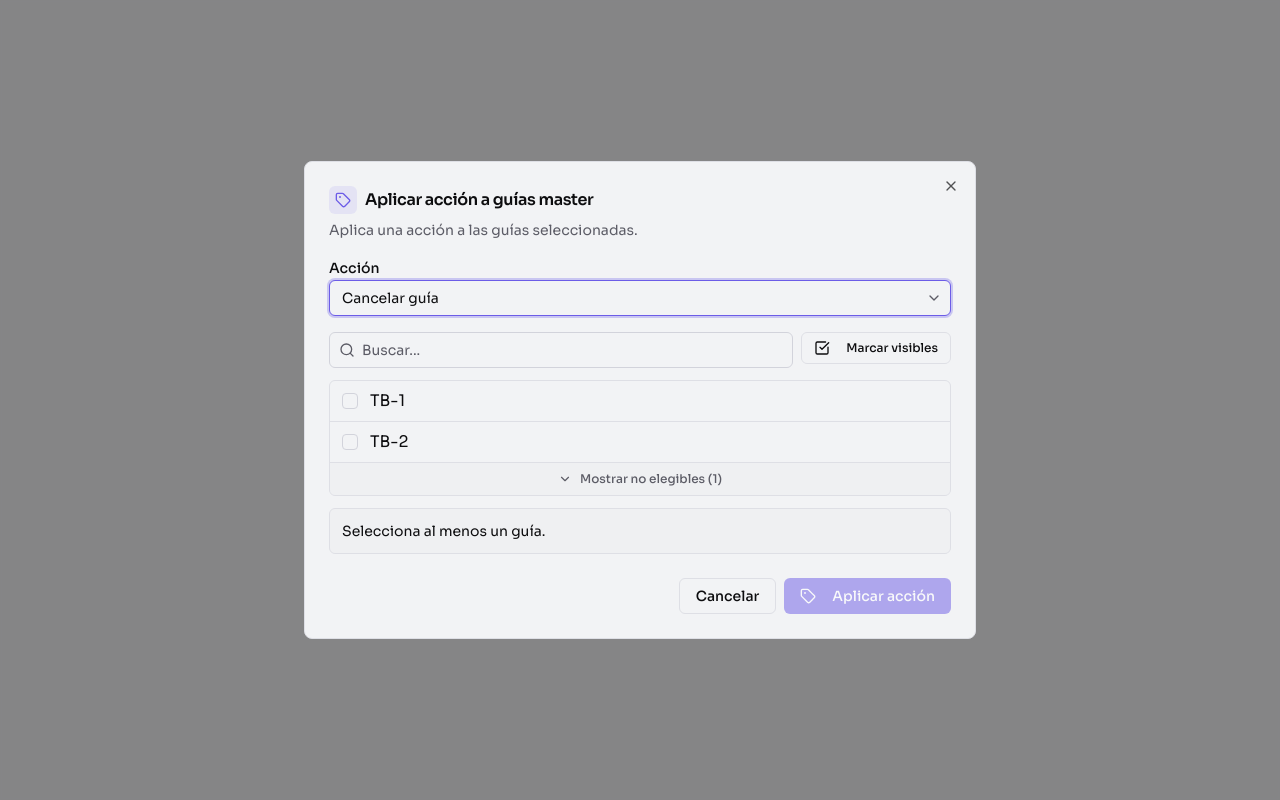
Test: AplicarEstadoMasivoDialog › al expandir, el no elegible aparece deshabilitado con su razón visible
What coordinates should you click on to do the following:
click the button "Mostrar no elegibles (1)"
I would click on:
 (640, 479)
Its box is [330,463,950,495].
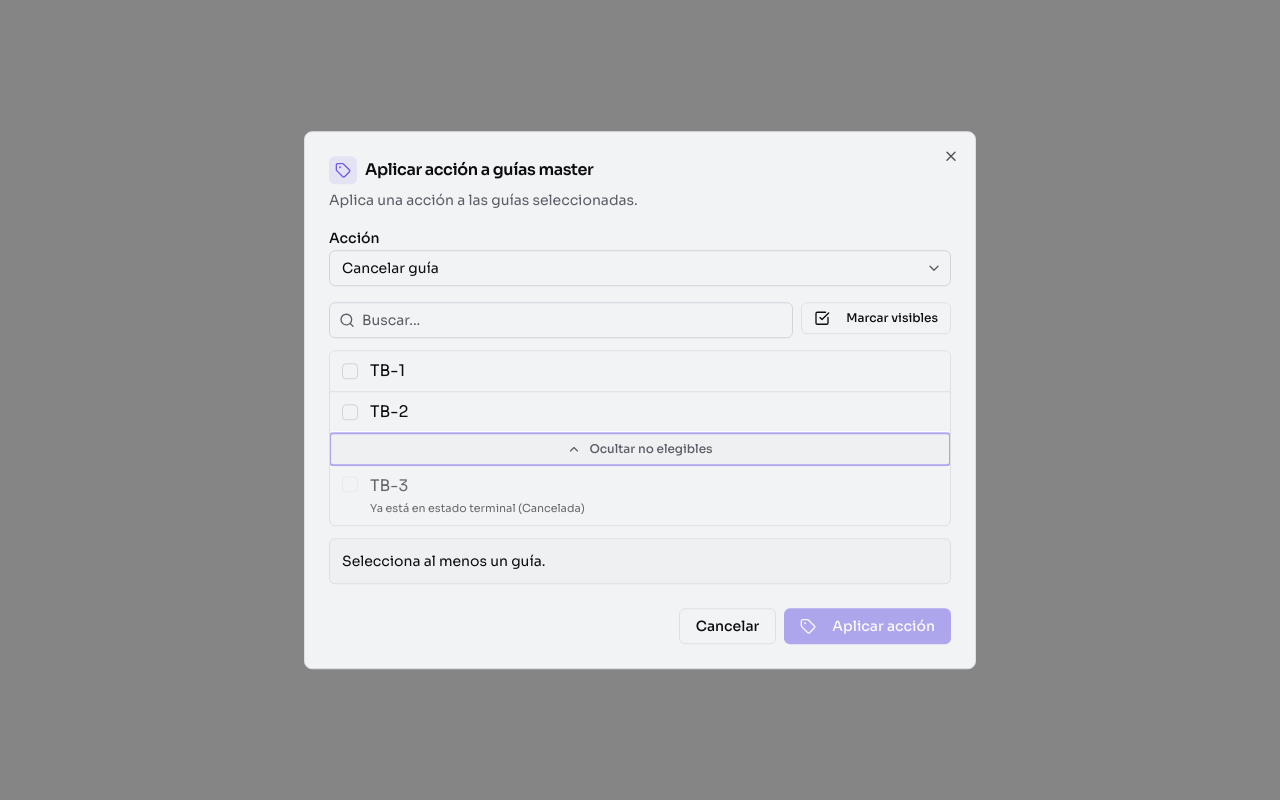
Expected: the text "TB-3" is shown, [370,475,408,496]
Expected: the text "Ya está en estado terminal (Cancelada)" is shown, [370,501,585,515]
Expected: the button "Ocultar no elegibles" is shown, [330,433,950,465]
